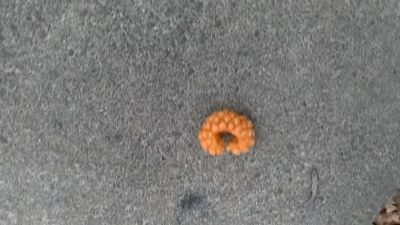eggs: (197, 108, 256, 158)
